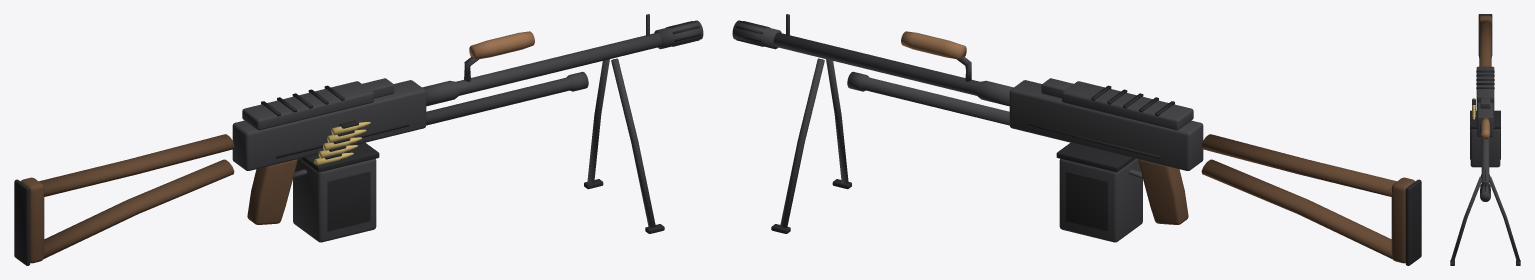
The model's file is SM_PKM.glb.
3 renders of one model, left to right at view 1: azimuth 30°, elevation 25°; view 2: azimuth 150°, elevation 25°; view 3: azimuth 270°, elevation 25°, orthographic. The views are drawn at different scales.
Parts seen in each view (by area): view 1: SM_PKM; view 2: SM_PKM; view 3: SM_PKM.
Boxes of the visible parts, x1,y1,x2,y2 form: SM_PKM: [14, 14, 703, 265]; SM_PKM: [732, 14, 1421, 265]; SM_PKM: [1450, 14, 1520, 265].
Bounding box in the file's own units: 1.28 × 0.361 × 0.214.
